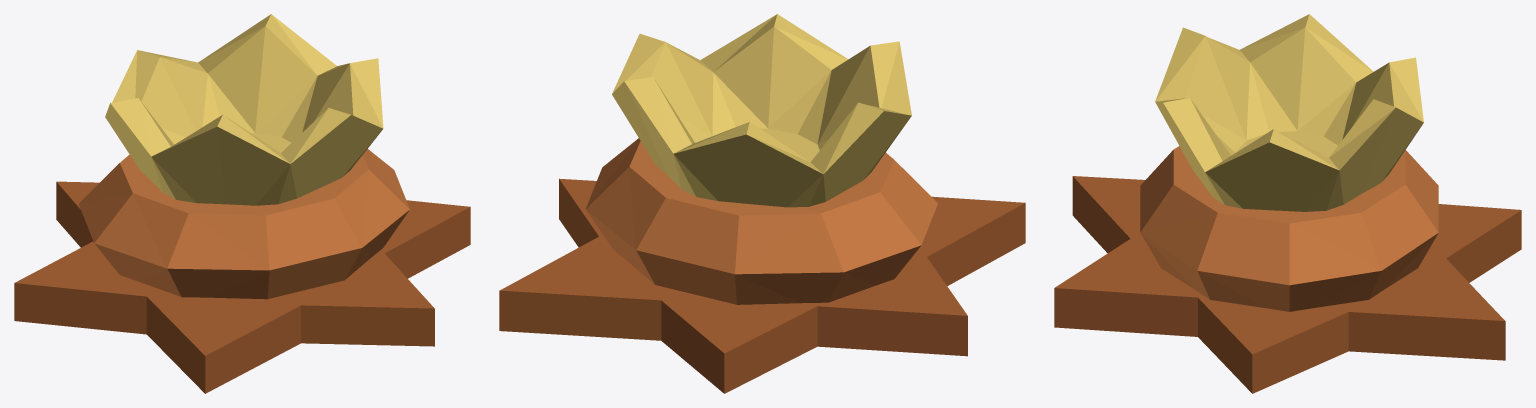
File: gaumaker_c.obj
The picture shows the model from 3 angles, left to right: view 1: azimuth 30°, elevation 25°; view 2: azimuth 150°, elevation 25°; view 3: azimuth 270°, elevation 25°; orthographic projection. The views are drawn at different scales.
Parts seen in each view (by area): view 1: gaumaker_c; view 2: gaumaker_c; view 3: gaumaker_c.
Part boxes in pixels (box(x1,y1,x2,y2)): gaumaker_c: box(14, 14, 470, 393); gaumaker_c: box(499, 14, 1025, 393); gaumaker_c: box(1054, 14, 1521, 393).
Bounding box in the file's own units: 0.8685 × 0.4198 × 0.8043.
